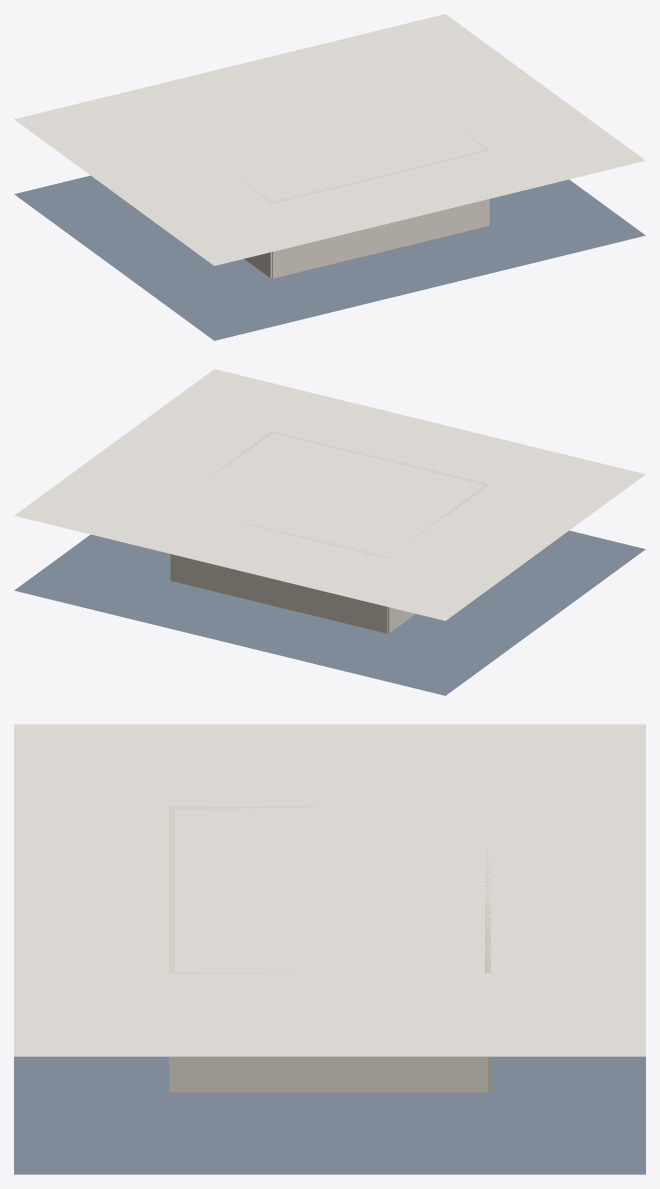
The model's file is studio.glb.
The picture shows the model from 3 angles, top to bottom: view 1: azimuth 30°, elevation 25°; view 2: azimuth 150°, elevation 25°; view 3: azimuth 270°, elevation 25°; orthographic projection. The views are drawn at different scales.
Visible parts, largest first — view 1: Ceiling, Floor, Wall_Back, Wall_Left; view 2: Ceiling, Floor, Wall_Front, Wall_Left, Wall_Back; view 3: Ceiling, Floor, Wall_Right, Wall_Back, Wall_Front.
Boxes of the visible parts, x1,y1,x2,y2 form: Ceiling: (14, 14, 645, 265); Floor: (14, 175, 645, 340); Wall_Back: (271, 150, 488, 278); Wall_Left: (223, 166, 272, 278); Ceiling: (14, 369, 645, 620); Floor: (14, 530, 645, 695); Wall_Front: (171, 512, 387, 633); Wall_Left: (387, 484, 489, 633); Wall_Back: (271, 431, 488, 484); Ceiling: (14, 724, 645, 1056); Floor: (14, 1056, 645, 1174); Wall_Right: (172, 972, 487, 1092); Wall_Back: (169, 807, 174, 1091); Wall_Front: (485, 835, 490, 1091).
Size of the model in its own units: 18.4 by 3.06 by 14.8.
